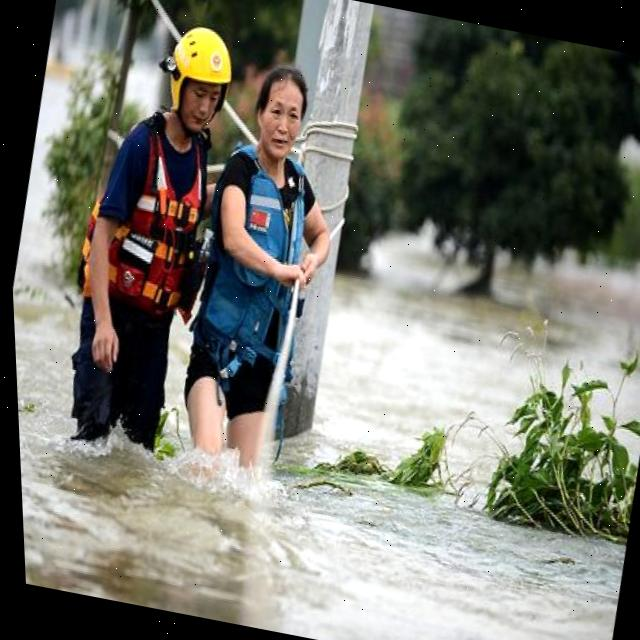civilian: (158, 42, 380, 487)
rescuer: (34, 4, 258, 465)
